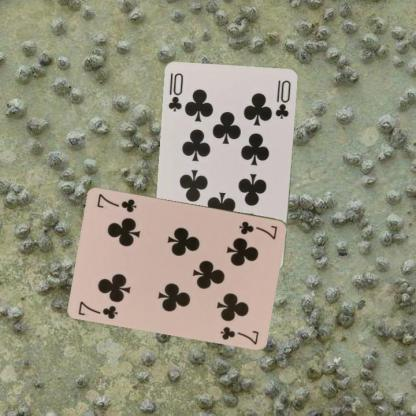10c: (166, 71, 185, 113)
7c: (76, 298, 119, 320), (236, 218, 278, 240)
